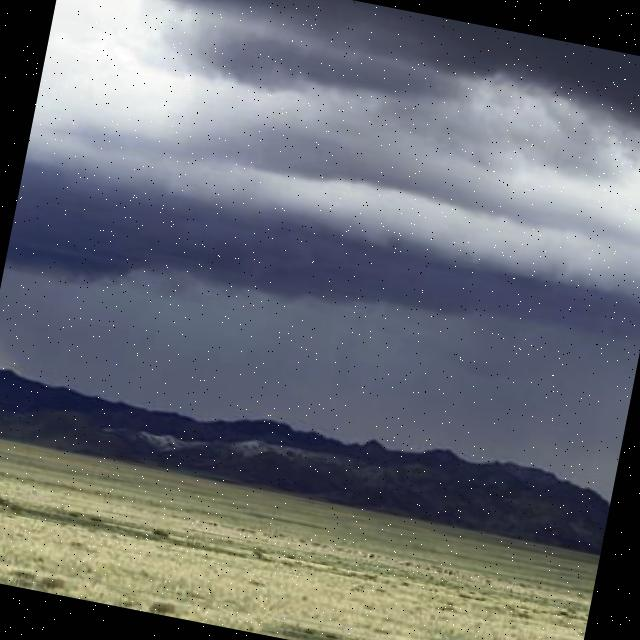Ns: (4, 1, 640, 398)
